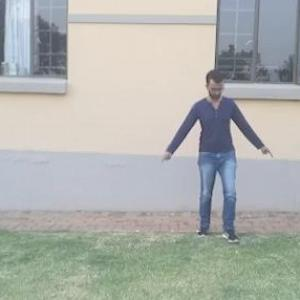land: (163, 60, 299, 259)
